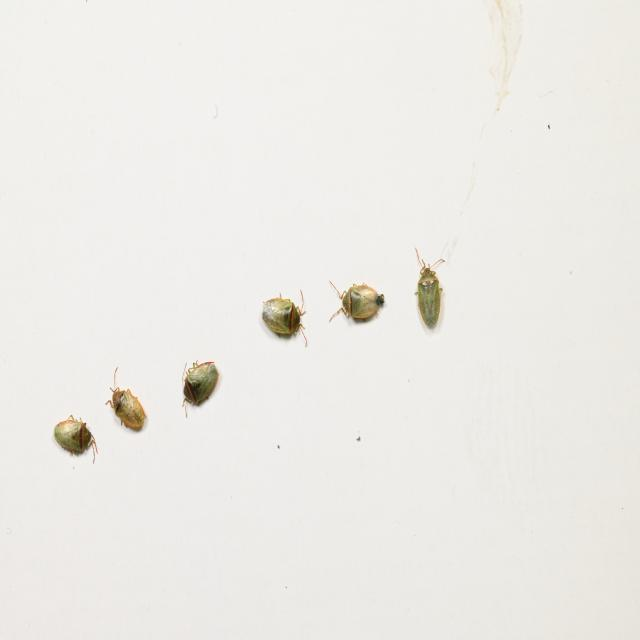stinkbug: (105, 367, 146, 436), (262, 288, 307, 349), (414, 247, 446, 329), (52, 414, 98, 468), (182, 359, 219, 421)
